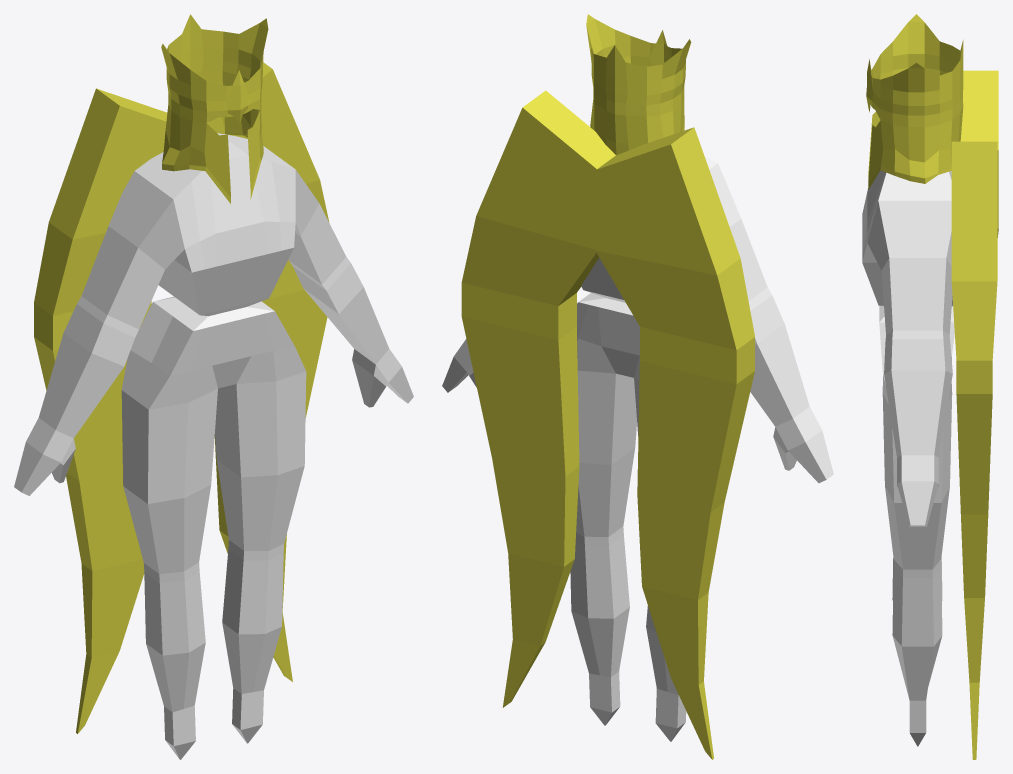
Rendered from carrara_queen.fbx.
The picture shows the model from 3 angles, left to right: view 1: azimuth 30°, elevation 25°; view 2: azimuth 150°, elevation 25°; view 3: azimuth 270°, elevation 25°; orthographic projection. The views are drawn at different scales.
Parts seen in each view (by area): view 1: carrara_queen; view 2: carrara_queen; view 3: carrara_queen.
Part boxes in pixels (x1,y1,x2,y2): carrara_queen: (14,14,413,759); carrara_queen: (442,14,833,759); carrara_queen: (862,14,998,759).
Size of the model in its own units: 209 by 367 by 65.6.
